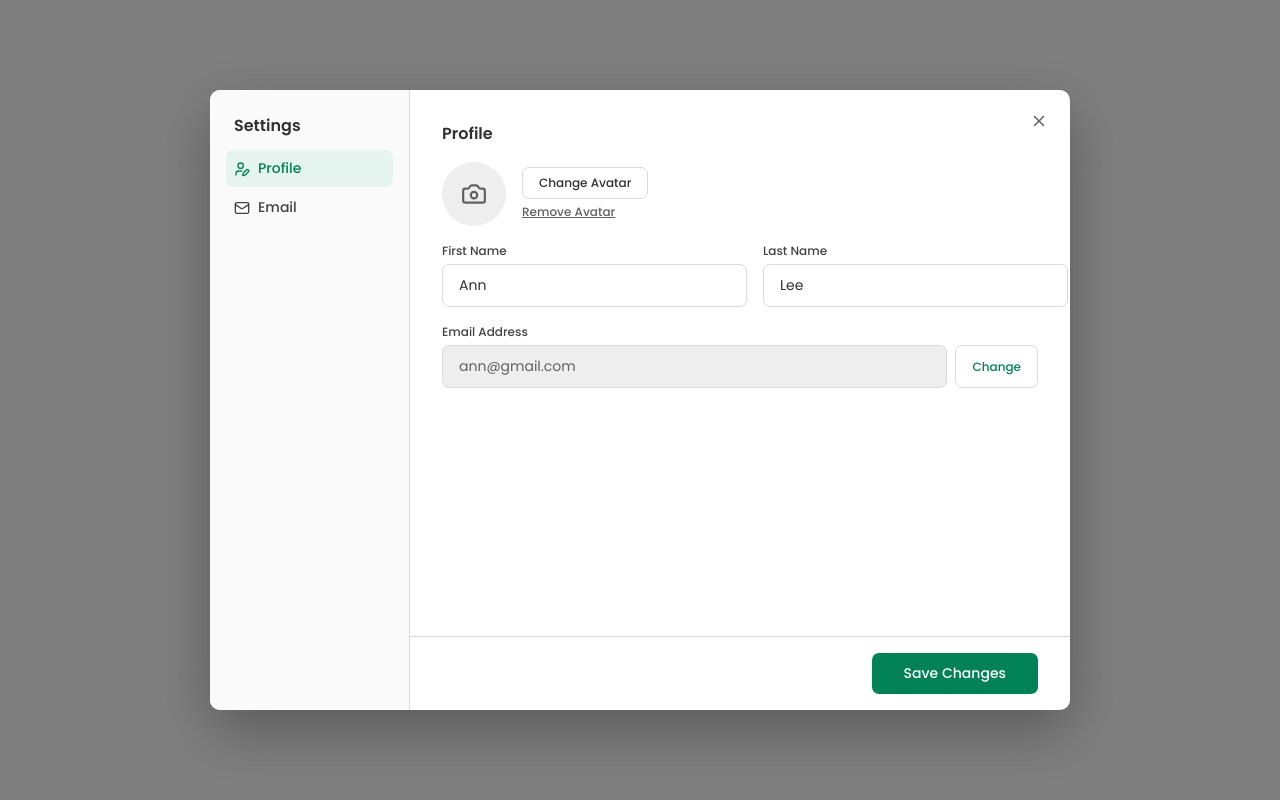
it: Settings — changing the login email › refuses an address another account holds before Supabase is asked
This screenshot has width=1280, height=800.
Expected: the field labelled "Email Address" holds "ann@gmail.com", [442,345,948,388]
Click the button "Change".
click(997, 366)  # box [956,345,1038,388]
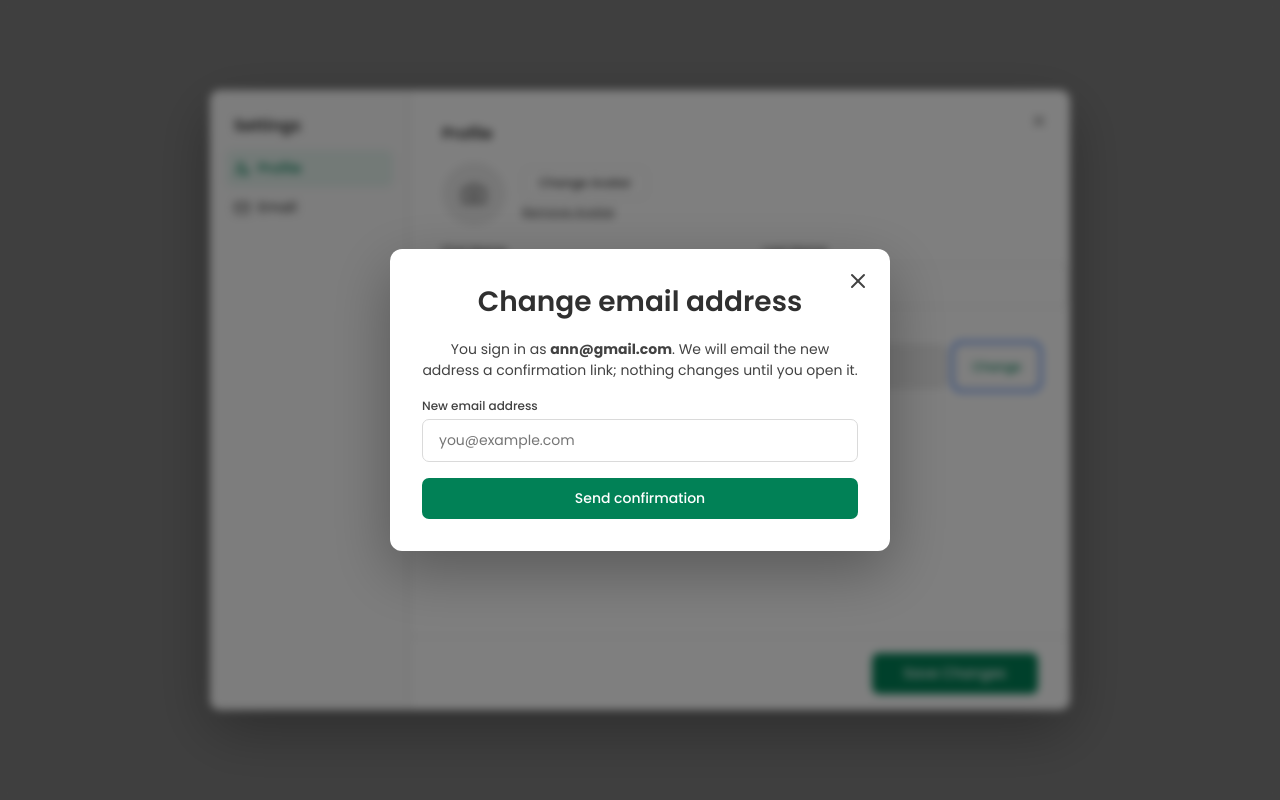
Type "taken@example.com" into the field labelled "New email address".
click(640, 440); type("taken@example.com")  # box [422,419,858,462]
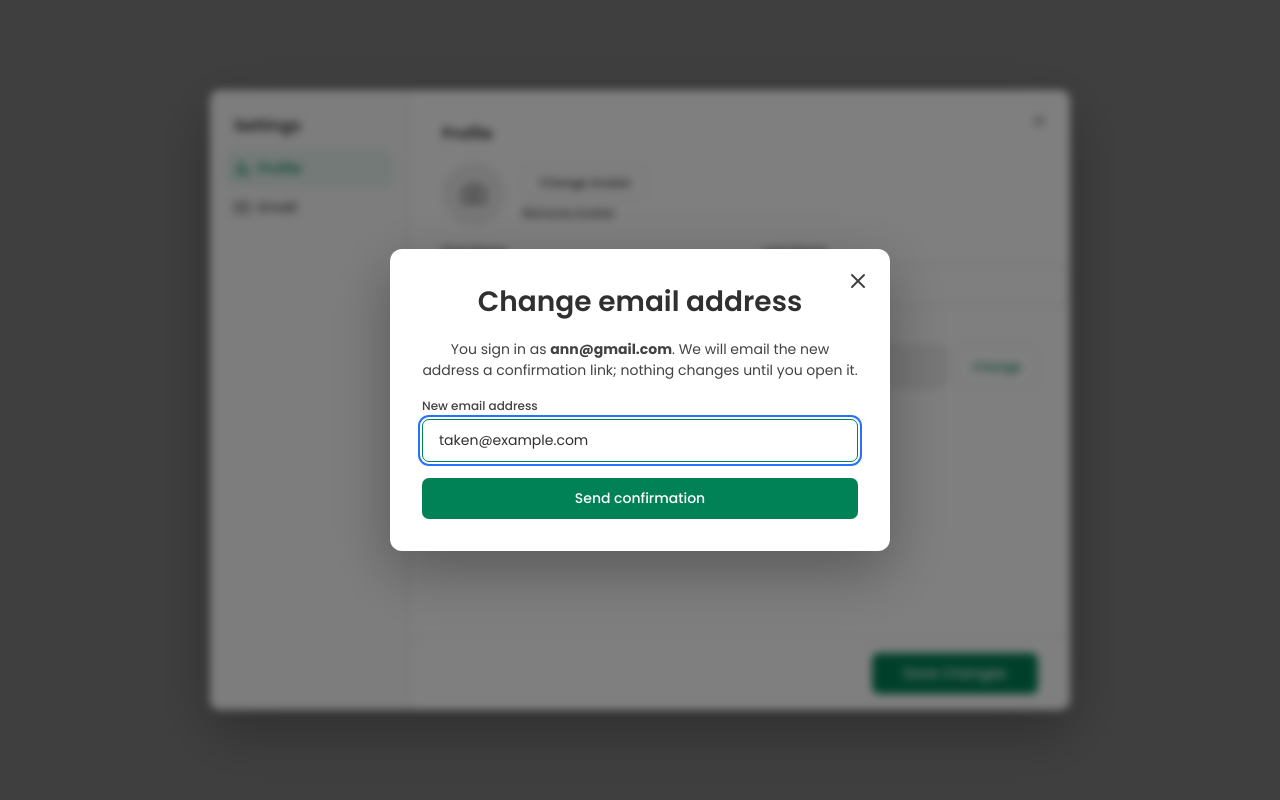
Click the button "Send confirmation".
click(640, 498)  # box [422,478,858,519]
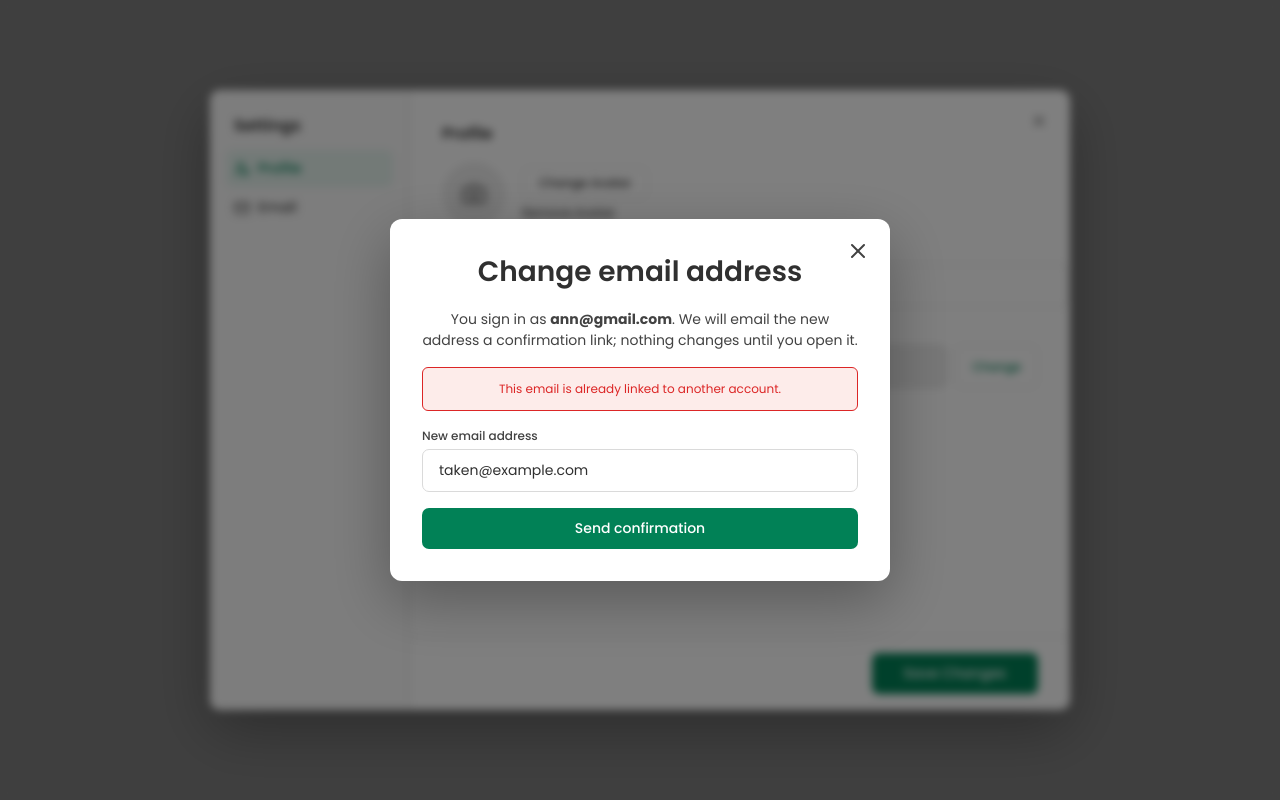
Expected: the message reads "This email is already linked to another account.", [499,380,781,397]
